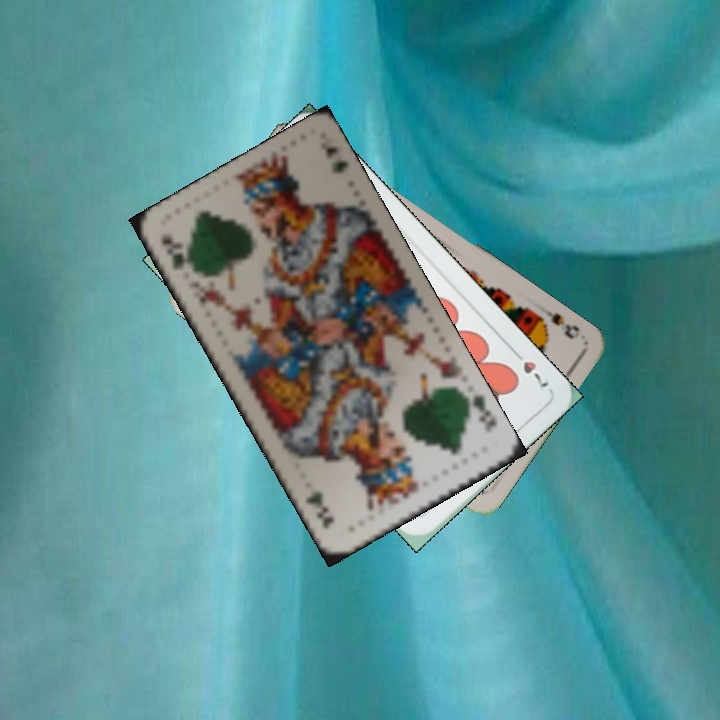GK: (156, 231, 200, 278), (459, 390, 500, 434)
H7: (507, 345, 552, 391)
S9: (530, 301, 582, 342)
